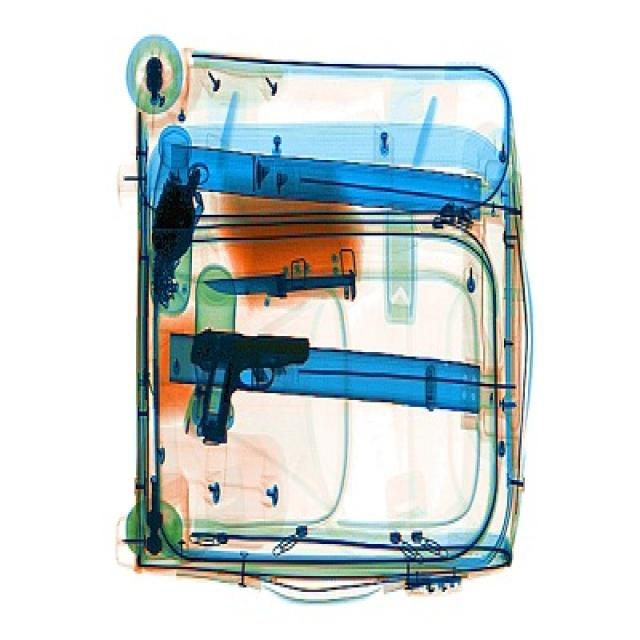grenade: (153, 161, 210, 260)
knife: (202, 263, 376, 308)
pistol: (191, 333, 310, 443)
